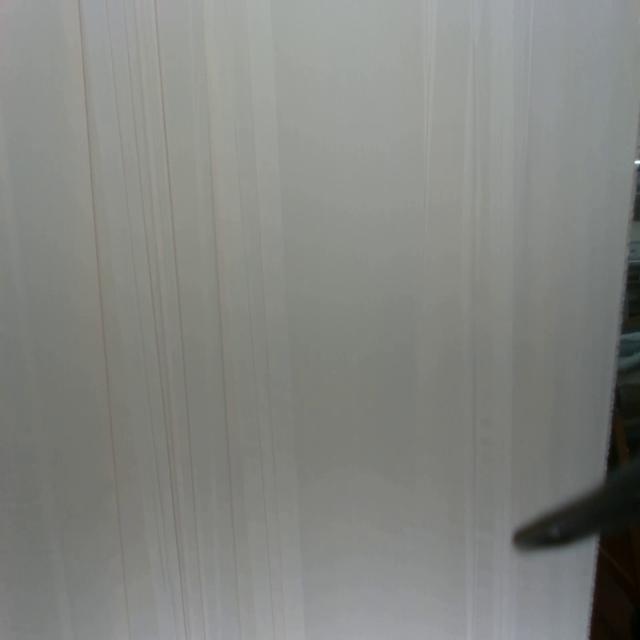crease: (107, 0, 208, 639), (243, 1, 306, 640), (75, 0, 131, 636), (202, 0, 244, 640), (233, 115, 276, 640), (487, 0, 513, 640), (464, 1, 479, 640), (422, 0, 438, 279)
